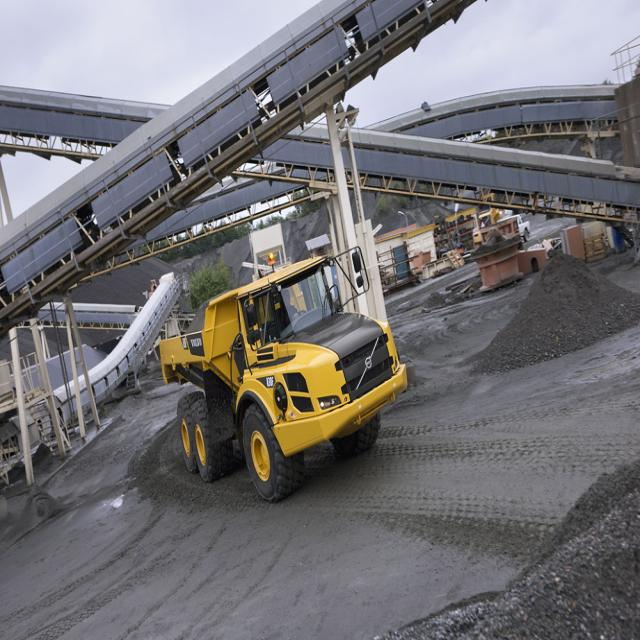dump_truck: (152, 246, 424, 512)
